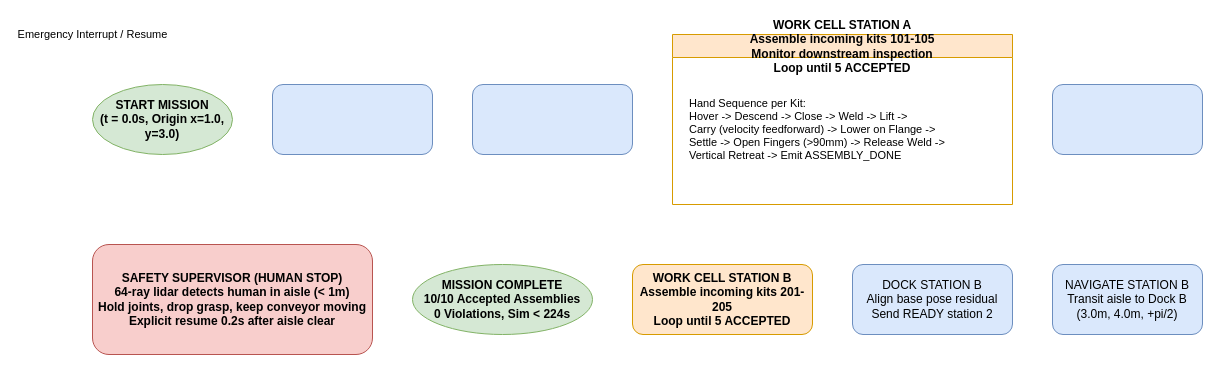
This 1220x372 diagram has some shape labels left out. Here are the shapes that lost their labels. From the top down, the centre of each, then its label:
[352,119]: NAVIGATE STATION A Trajectory tracking to Dock A (3.0m, 2.0m, -pi/2)
[552,119]: DOCK STATION A Align base pose residual < 25mm / 2 deg tolerance
[1127,119]: STOW ARM AT A Tuck 6 joints to safe angles Zero base velocity
